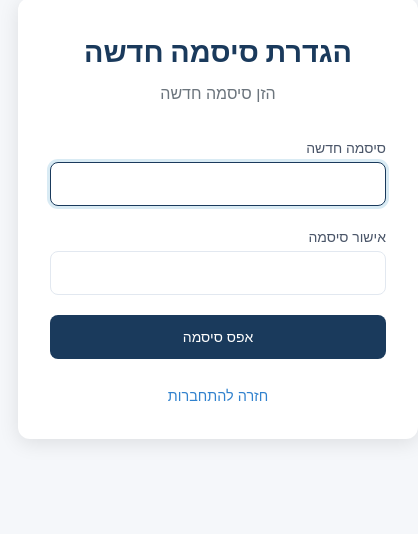
Scenario: ResetPassword Page › should show error when password is too short
Type "123" into the password field labelled "סיסמה חדשה".
click(218, 184); type("123")  # box top-left (50, 162), bottom-right (386, 206)
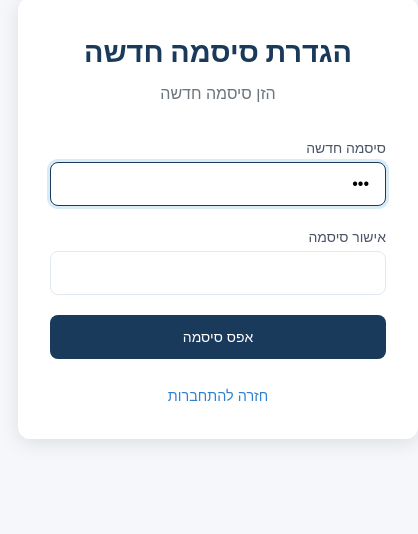
Type "123" into the password field labelled "אישור סיסמה".
click(218, 273); type("123")  # box top-left (50, 251), bottom-right (386, 295)
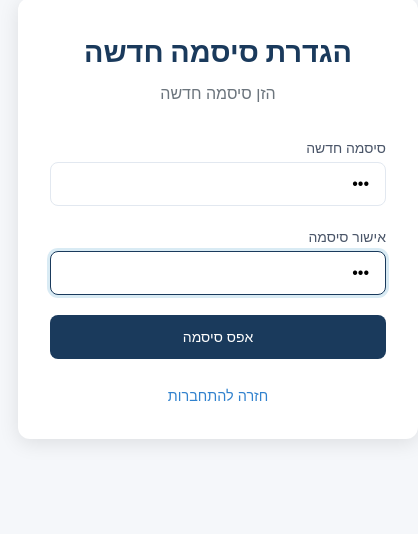
Click the button "אפס סיסמה".
click(218, 337)  # box top-left (50, 315), bottom-right (386, 359)
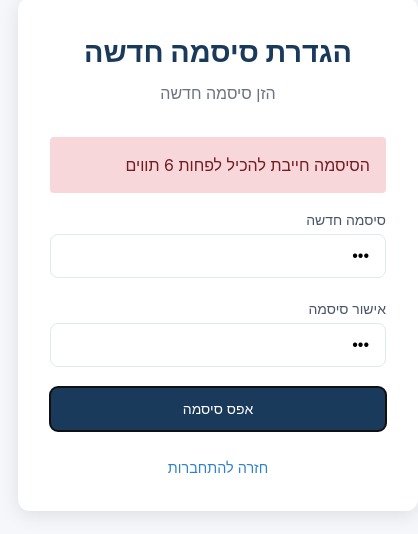
Now the text "הסיסמה חייבת להכיל לפחות 6 תווים" is shown, box top-left (50, 137), bottom-right (386, 193)
